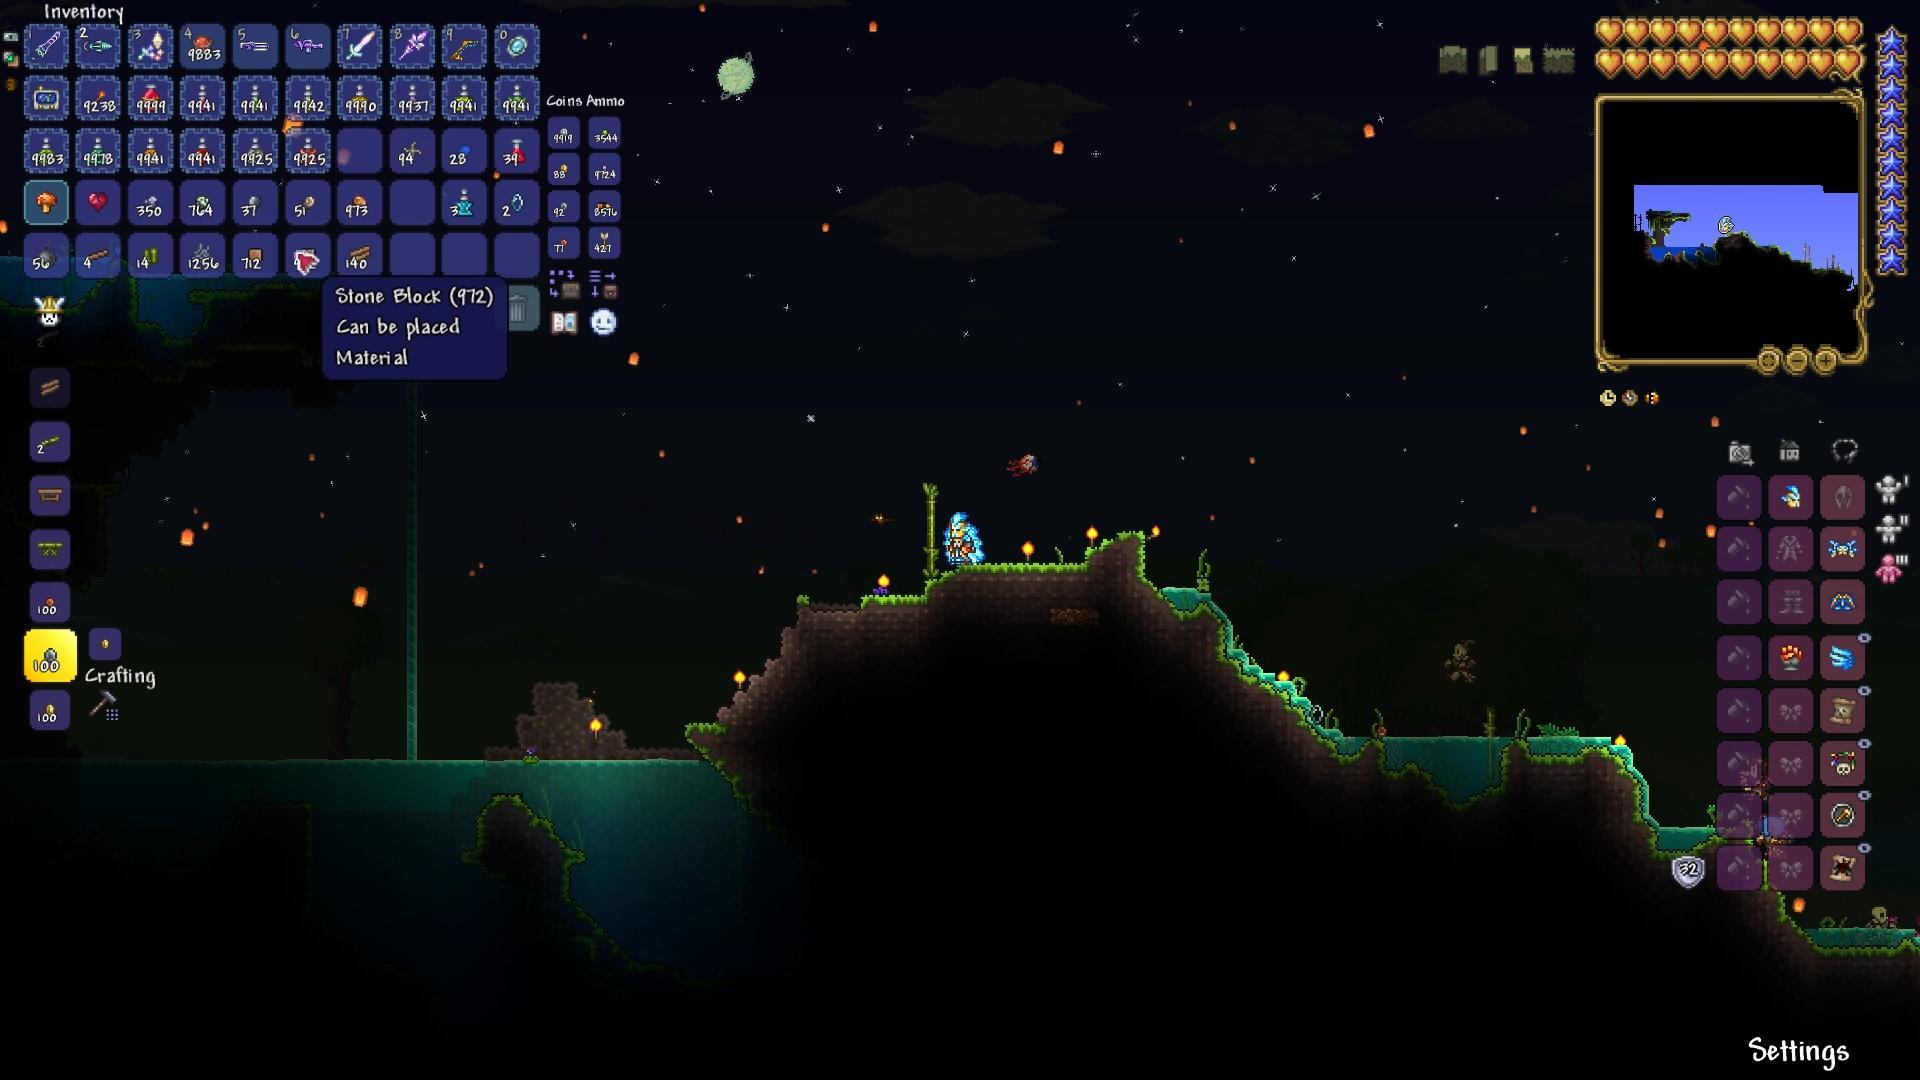eye: (1004, 440, 1043, 483)
lens: (502, 187, 529, 211)
mirror: (504, 30, 530, 59)
